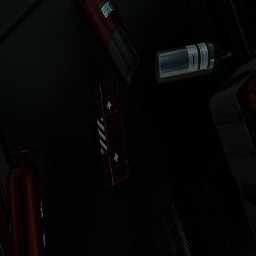0: (155, 41, 232, 84)
FirstAidBox ,: (91, 78, 129, 187)
NitrogenTank ,: (73, 0, 142, 90), (6, 146, 46, 256)
